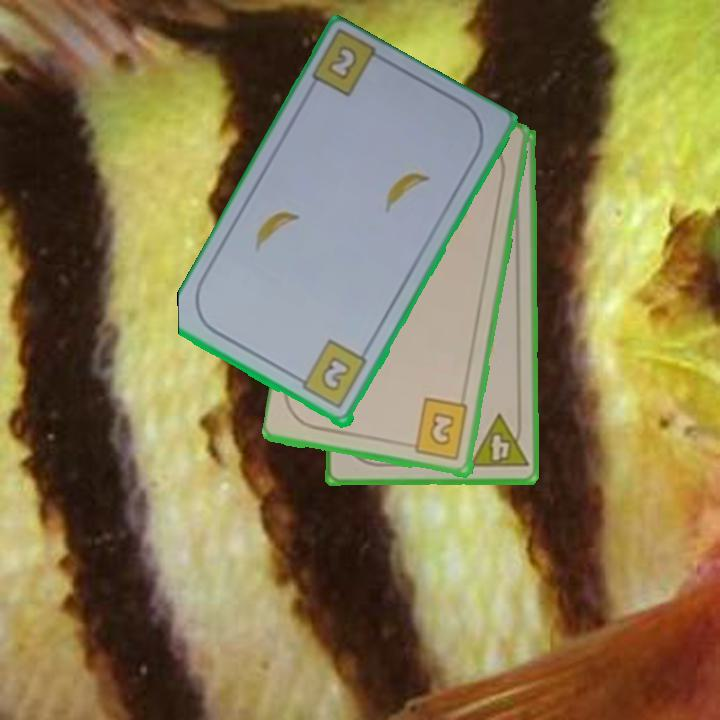2b: (291, 337, 370, 413), (402, 396, 472, 464), (324, 40, 361, 84)
4p: (466, 411, 531, 471)
